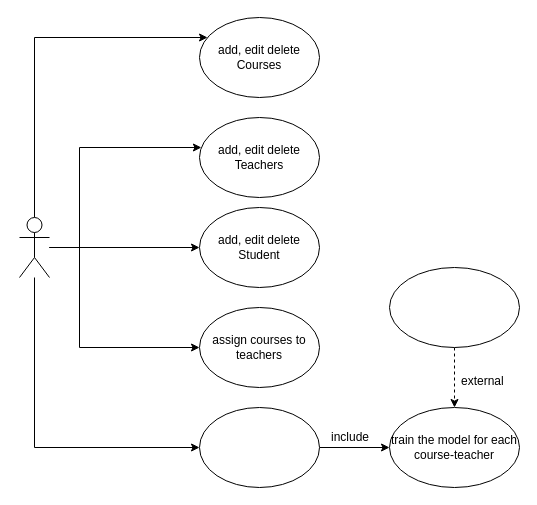
The diagram is 537 pixels wide and 505 high, and some of its shapes have lost their labels. The shapes that lost their labels are listed below. From the top down, each one's centre as x and y in pixels, then its label:
At point (34, 247): "Admin".
At point (454, 307): "take students images".
At point (259, 447): "register student to courses and teachers".
